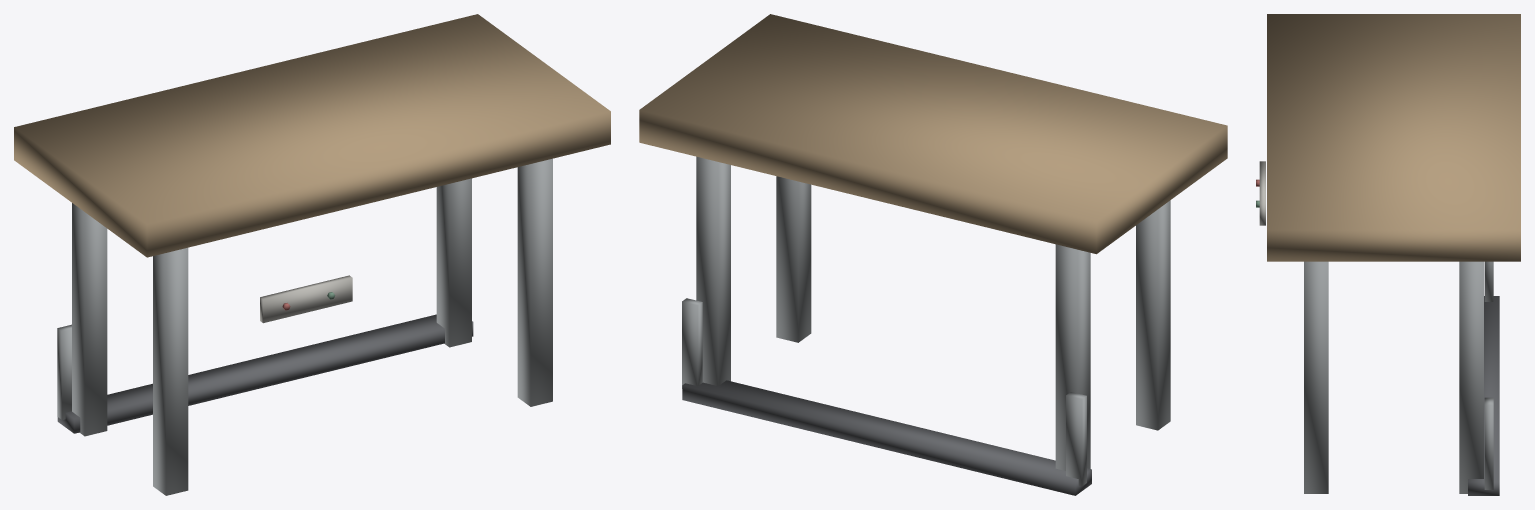
File: workbench__reinforced.glb
The picture shows the model from 3 angles, left to right: view 1: azimuth 30°, elevation 25°; view 2: azimuth 150°, elevation 25°; view 3: azimuth 270°, elevation 25°; orthographic projection. The views are drawn at different scales.
Parts seen in each view (by area): view 1: world; view 2: world; view 3: world.
Boxes of the visible parts, box(x1,y1,x2,y2) form: world: box(14, 14, 610, 495); world: box(639, 14, 1227, 495); world: box(1256, 14, 1520, 495).
Bounding box in the file's own units: 1.49 × 0.9078 × 0.7735.
